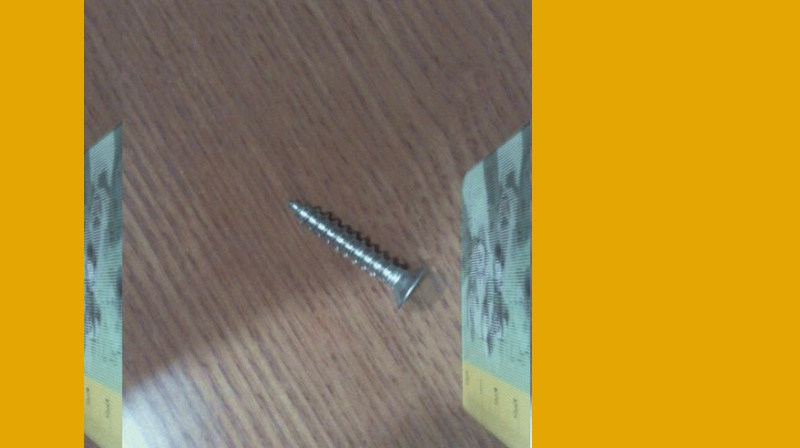S001: (281, 193, 435, 312)
